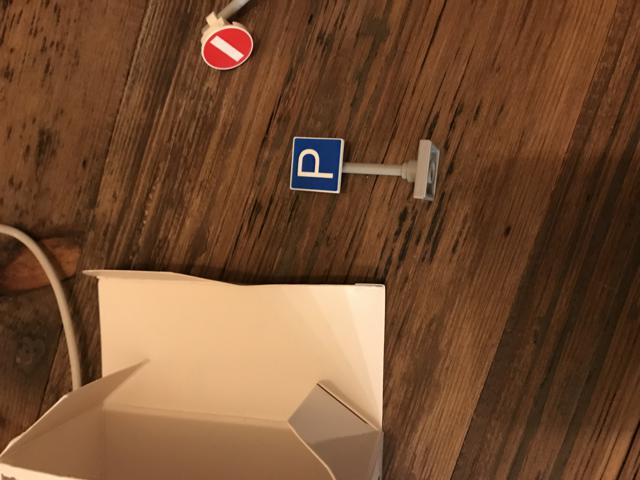parken: (287, 133, 346, 194)
verbot der einfahrt: (201, 22, 253, 70)
